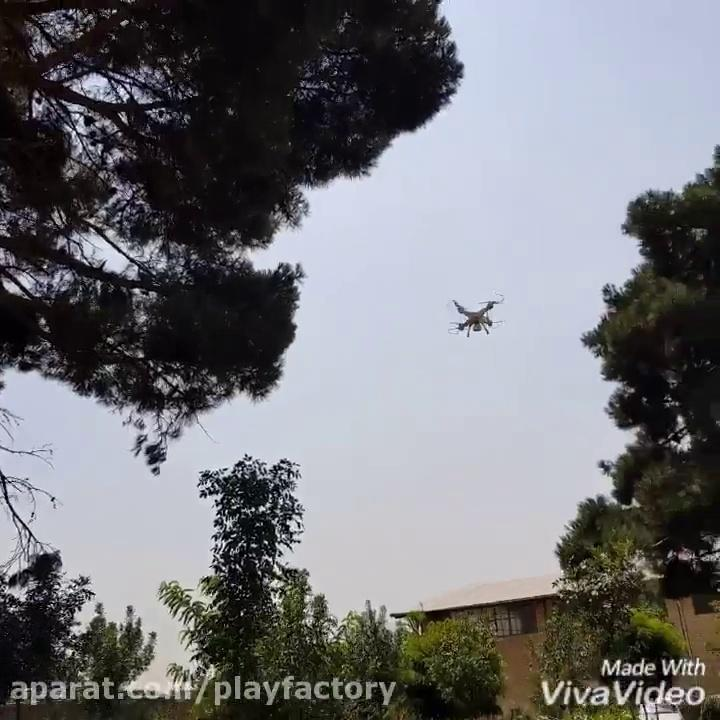drone: (442, 288, 510, 341)
